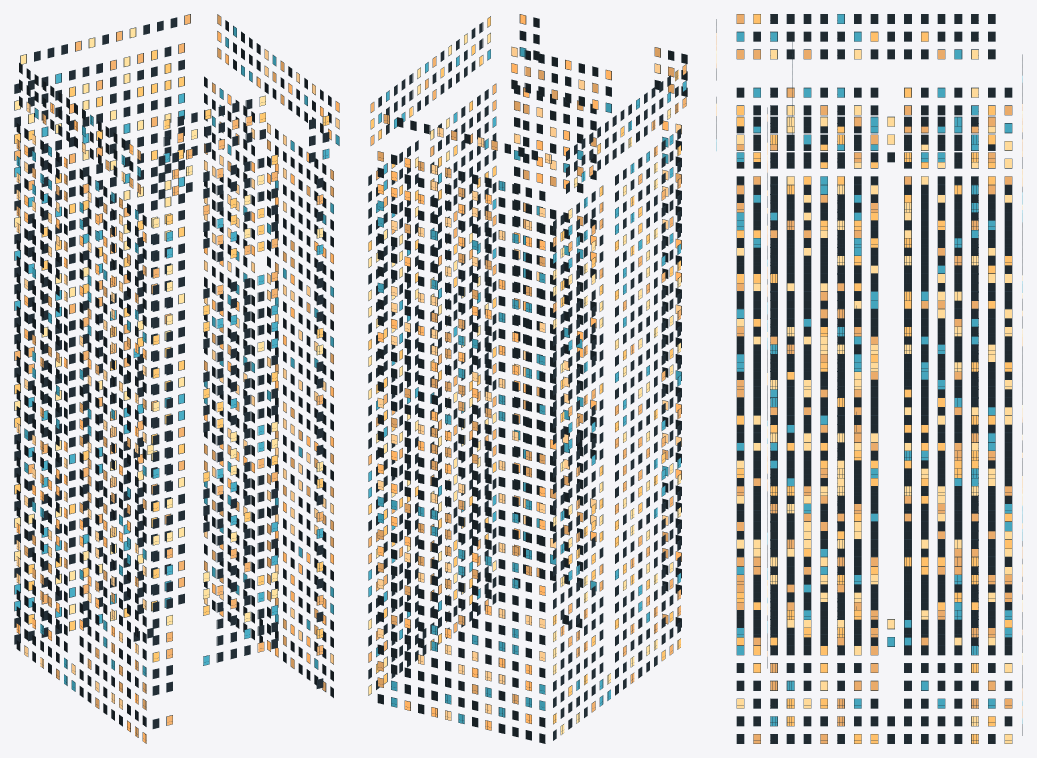
File: facade-building-160.glb
The picture shows the model from 3 angles, left to right: view 1: azimuth 30°, elevation 25°; view 2: azimuth 150°, elevation 25°; view 3: azimuth 270°, elevation 25°; orthographic projection. The views are drawn at different scales.
Parts seen in each view (by area): view 1: Facade fittings / building-160; view 2: Facade fittings / building-160; view 3: Facade fittings / building-160.
Boxes of the visible parts, x1,y1,x2,y2 form: Facade fittings / building-160: (14,14,339,743); Facade fittings / building-160: (368,14,687,743); Facade fittings / building-160: (716,14,1022,743).
Size of the model in its own units: 52.35 by 149 by 65.92.
